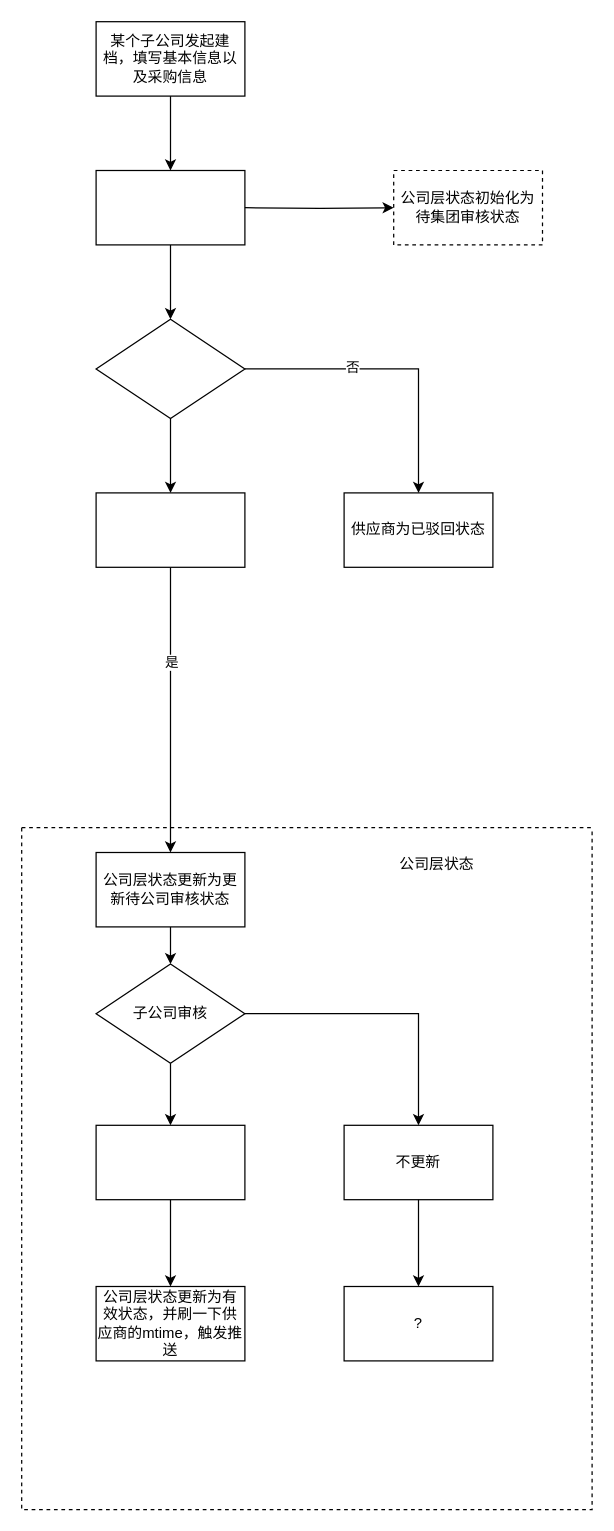
Image size: 614x1531. Some labels were removed from this diagram. The box of each missing label's shape, as (x1, y1, x2, y2) in pixels:
供应商记录初始化为建档待审核状态: (95, 169, 245, 245)
供应商记录流转为已核准状态: (95, 492, 245, 567)
更新: (95, 1124, 245, 1200)
集团审核: (95, 318, 245, 418)
